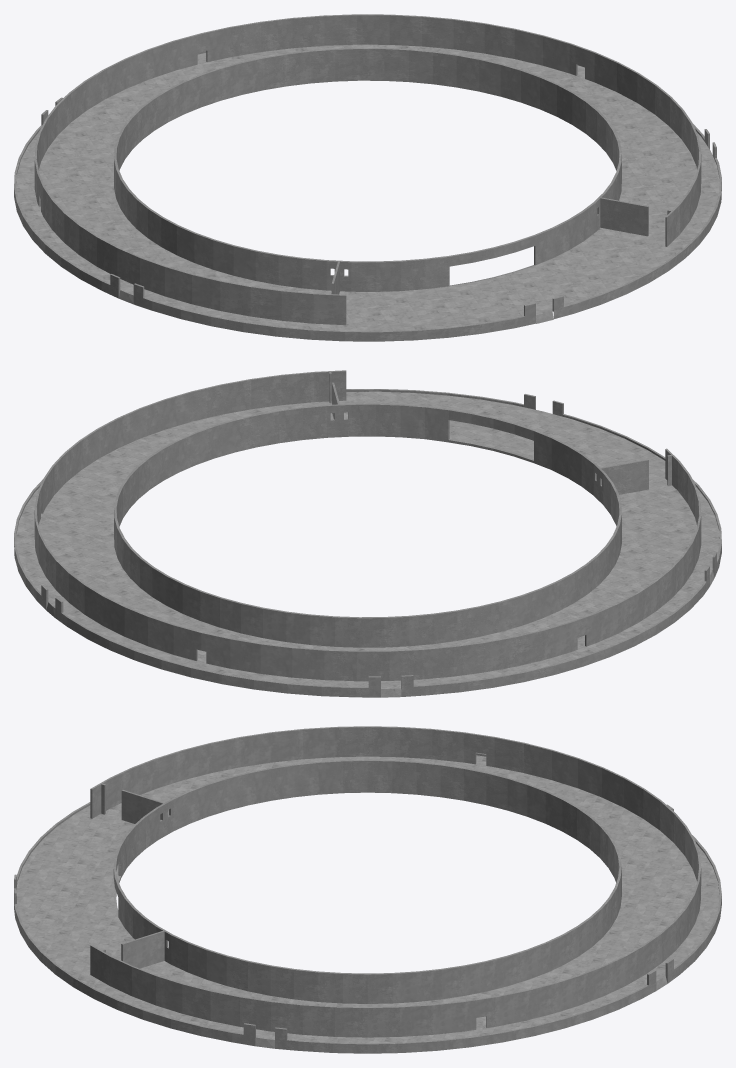
The picture shows the model from 3 angles, top to bottom: view 1: azimuth 30°, elevation 25°; view 2: azimuth 150°, elevation 25°; view 3: azimuth 270°, elevation 25°; orthographic projection.
Visible parts, largest first — view 1: Base; view 2: Base; view 3: Base.
Boxes of the visible parts, x1=… form: Base: x1=14, y1=14, x2=721, y2=341; Base: x1=14, y1=370, x2=721, y2=697; Base: x1=14, y1=726, x2=721, y2=1053.
Size of the model in its own units: 163 by 9.5 by 163.
3 materials, 3 textured.
